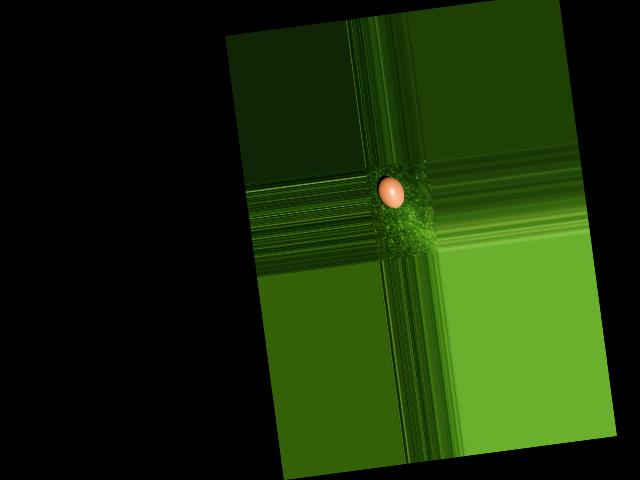egg: (375, 175, 405, 211)
